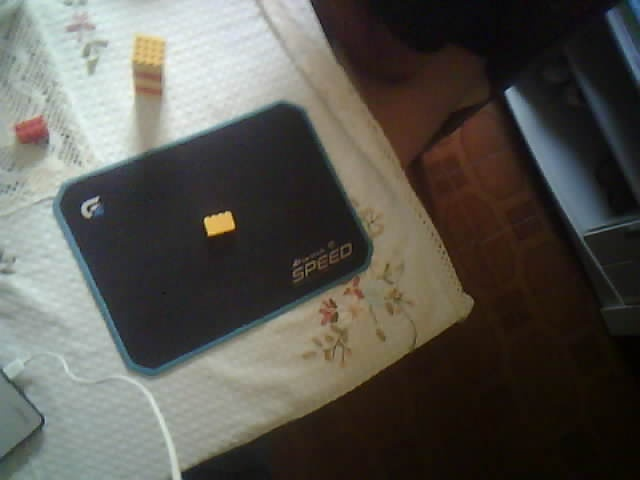lego: (130, 35, 166, 101), (14, 116, 50, 143), (203, 209, 236, 238)
